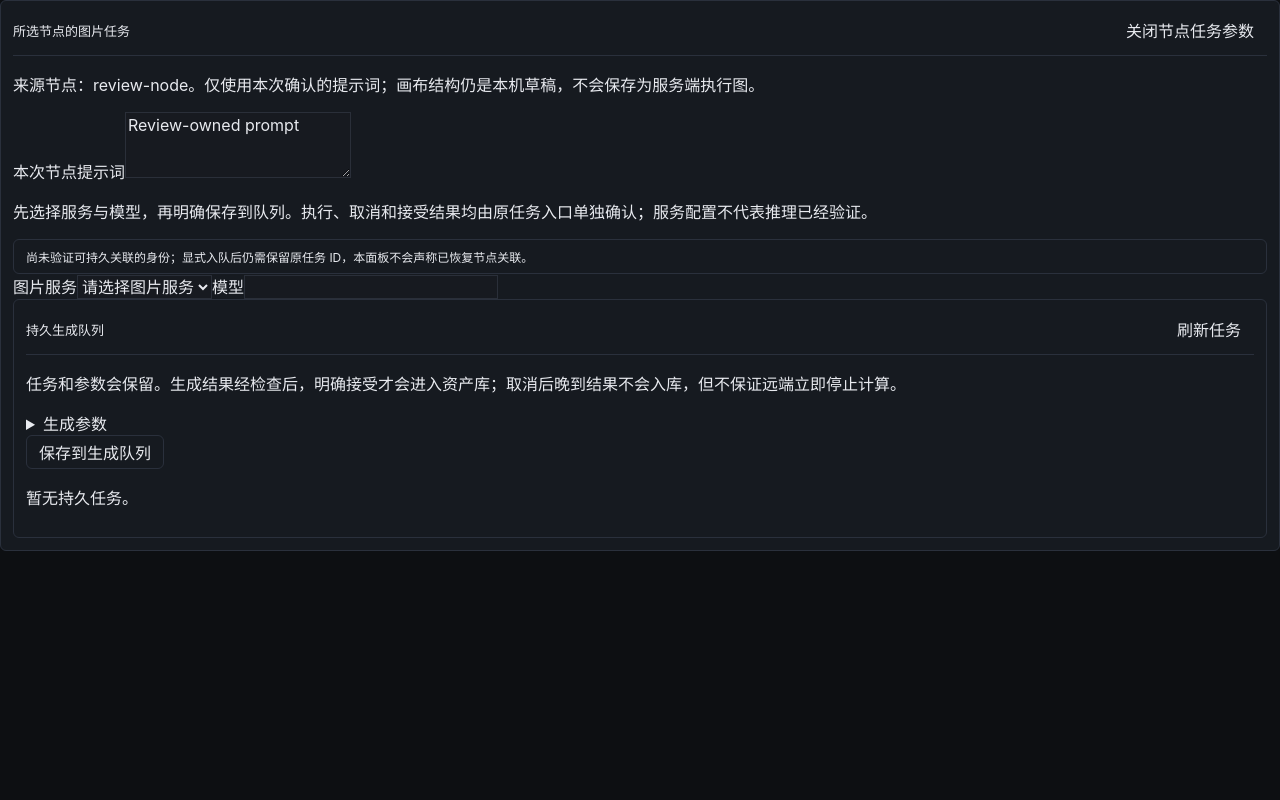
it: independent image queue boundary review › surfaces queue POST HTTP 401 without inventing a Job ID or executing
The width and height of the screenshot is (1280, 800).
Select "review-local" in the dropdown named "画布任务图片服务". click: (144, 287)
box: top-left (77, 275), bottom-right (212, 299)
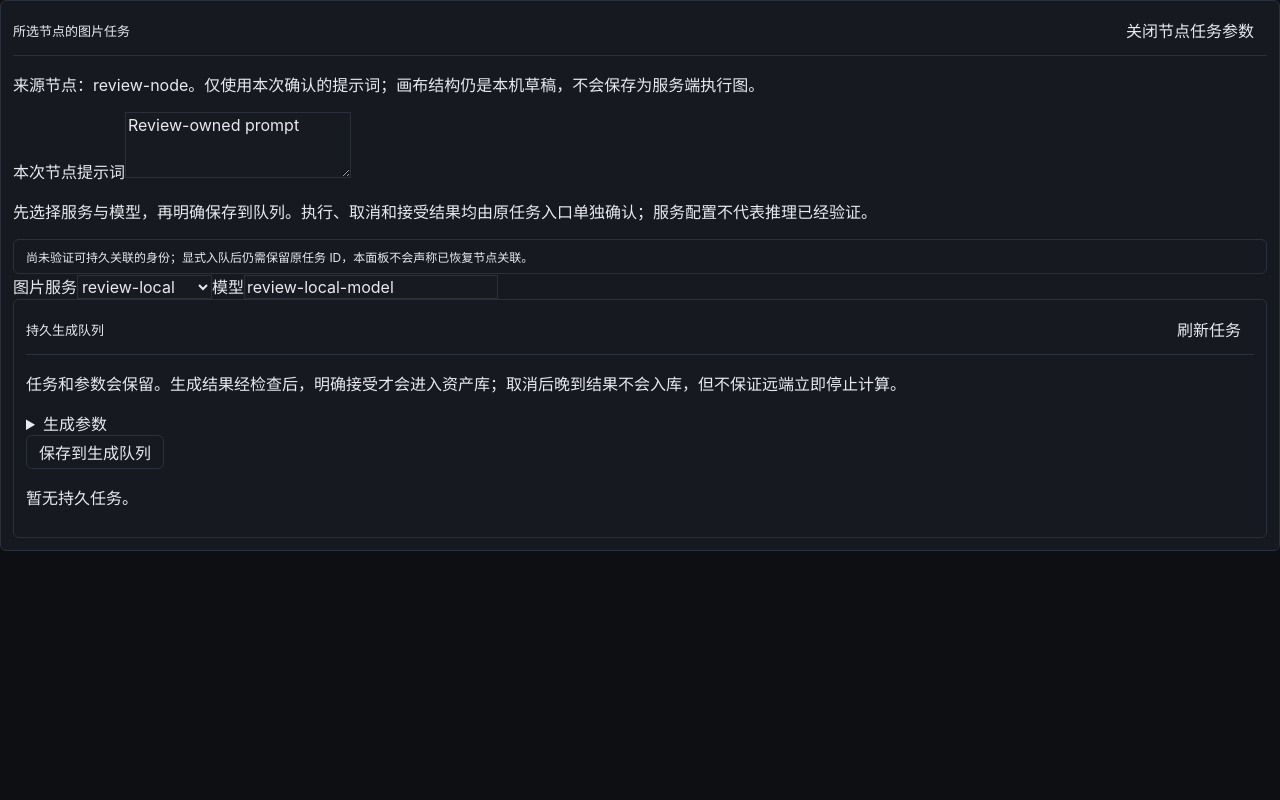
Click the button "保存到生成队列". click: (95, 452)
box: top-left (26, 435), bottom-right (164, 469)
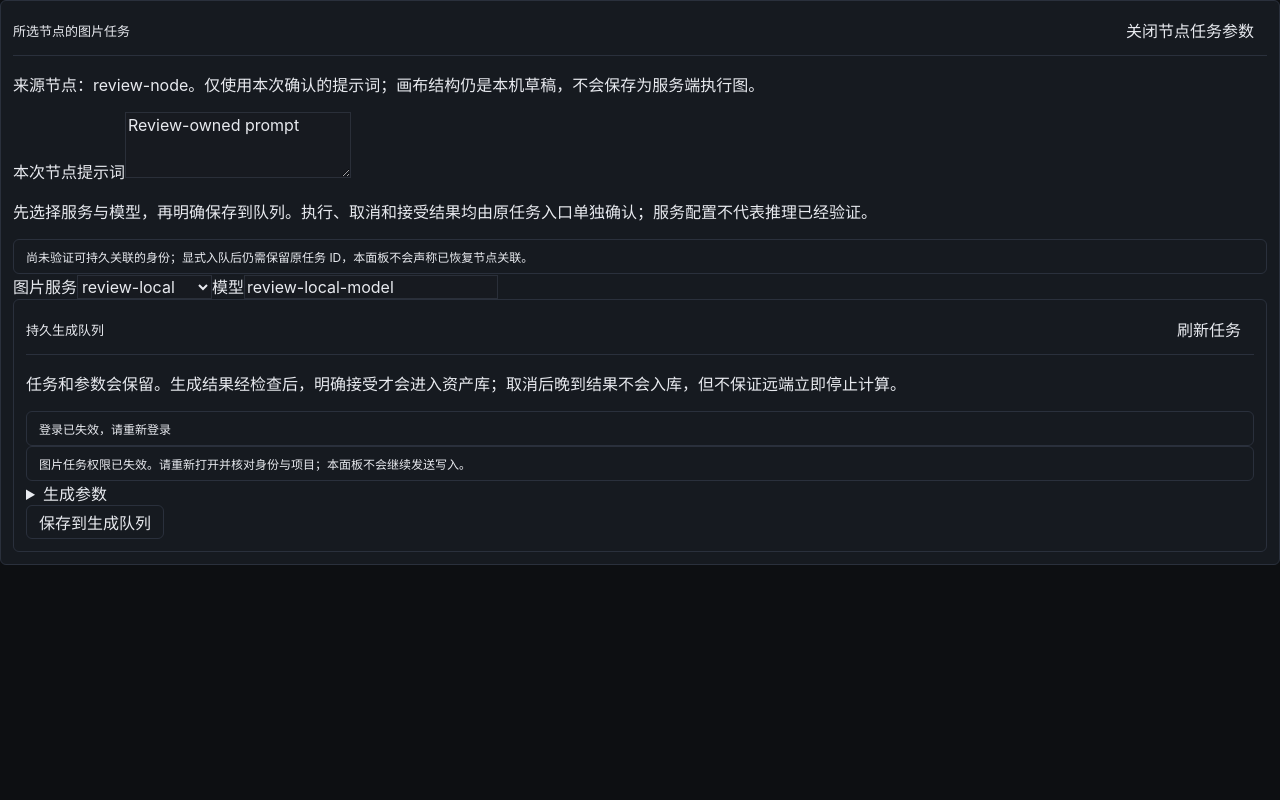
Expected: the message "登录已失效，请重新登录" is shown, top-left (26, 411), bottom-right (1254, 446)
